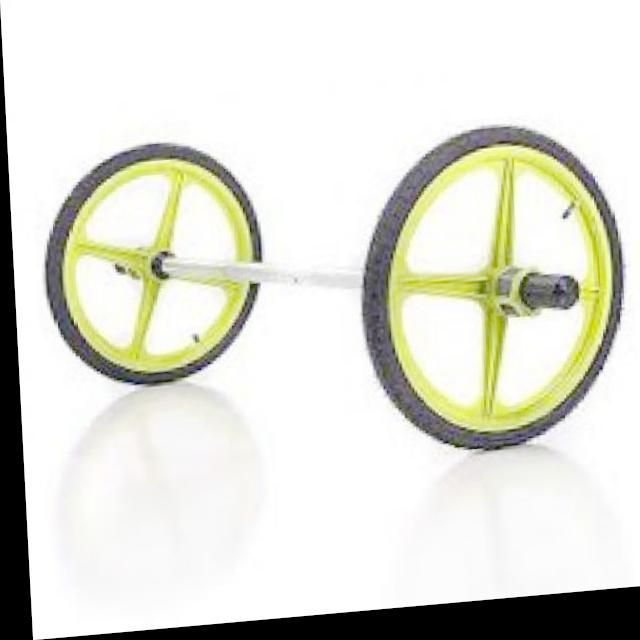barbell: (349, 117, 635, 474)
